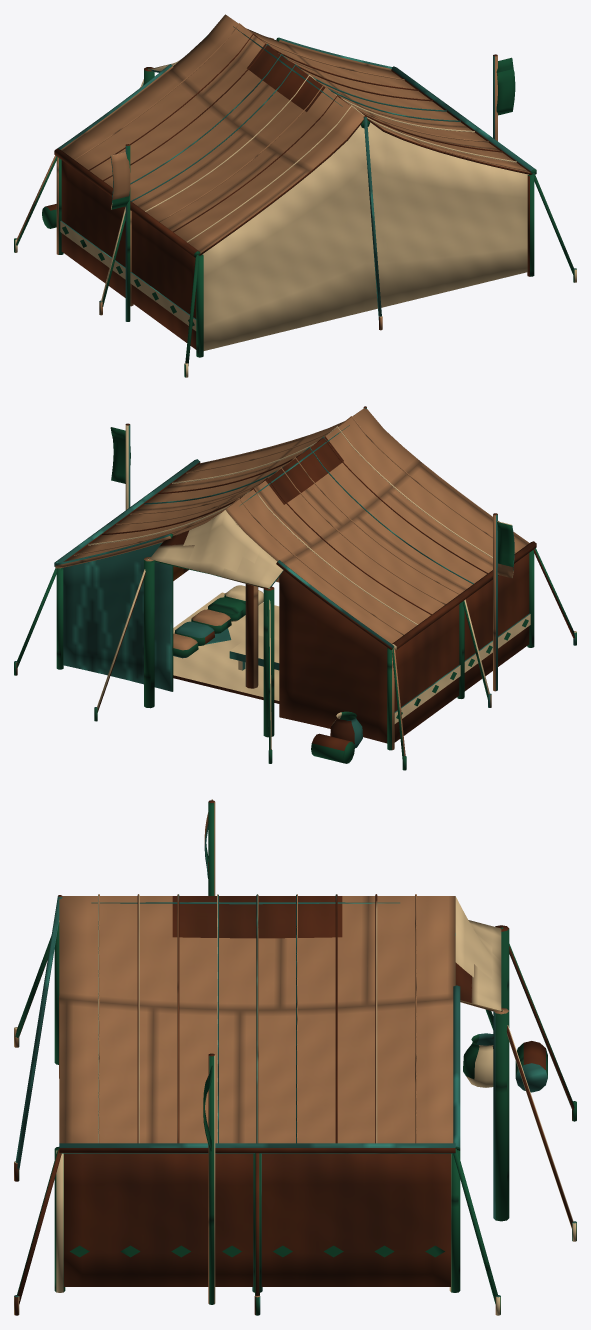
3 renders of one model, top to bottom at view 1: azimuth 30°, elevation 25°; view 2: azimuth 150°, elevation 25°; view 3: azimuth 270°, elevation 25°, orthographic. The views are drawn at different scales.
Parts seen in each view (by area): view 1: garrison_part_0003, garrison_part_0002, garrison_part_0004, garrison_part_0001; view 2: garrison_part_0002, garrison_part_0003, garrison_part_0004, garrison_part_0001, garrison_part_0000; view 3: garrison_part_0002, garrison_part_0003, garrison_part_0001, garrison_part_0004, garrison_part_0000.
Part boxes in pixels (box(x1,y1,x2,y2)): garrison_part_0003: box(58, 37, 528, 350); garrison_part_0002: box(16, 14, 574, 365); garrison_part_0004: box(42, 54, 515, 321); garrison_part_0001: box(56, 26, 534, 357); garrison_part_0002: box(16, 406, 574, 758); garrison_part_0003: box(55, 533, 530, 743); garrison_part_0004: box(110, 423, 514, 763); garrison_part_0001: box(56, 425, 534, 750); garrison_part_0000: box(14, 592, 576, 770); garrison_part_0002: box(15, 894, 574, 1304); garrison_part_0003: box(64, 985, 460, 1286); garrison_part_0001: box(54, 902, 509, 1292); garrison_part_0004: box(203, 799, 547, 1304); garrison_part_0000: box(14, 1027, 576, 1315).
Bounding box in the file's own units: 1610 × 778 × 1386.
